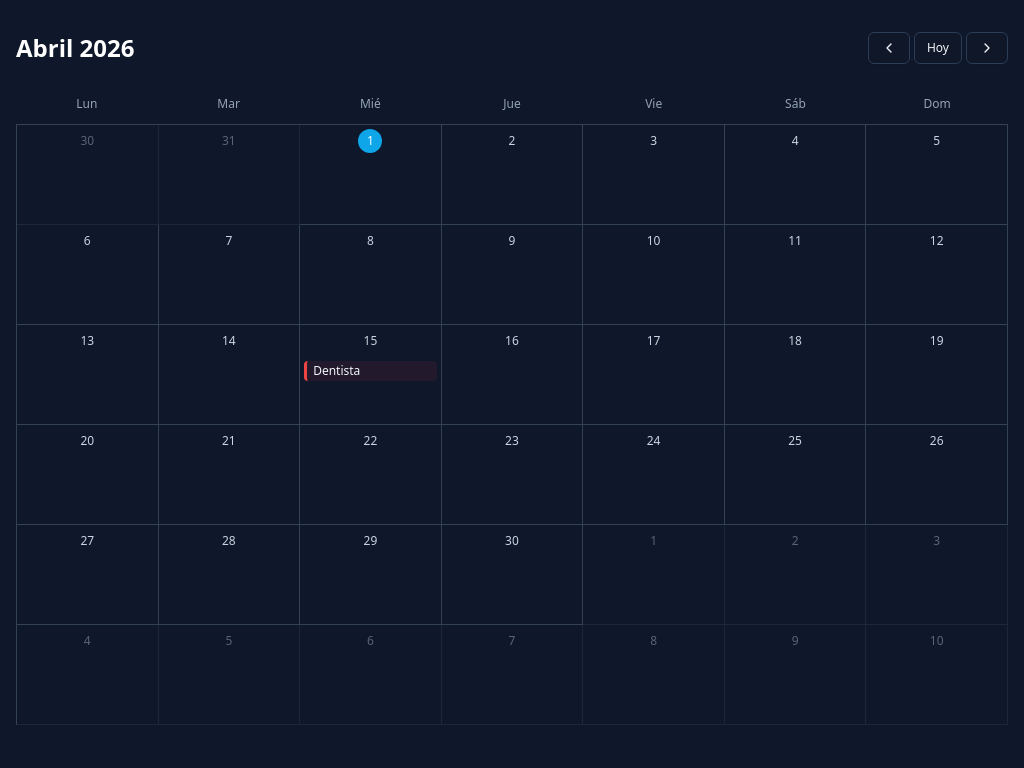
Test: CalendarPage › navigates to next month
Expected: the text "Dentista" is shown, [313,362,360,379]
Click the button named "Mes siguiente".
click(987, 48)  # box [966,32,1008,64]
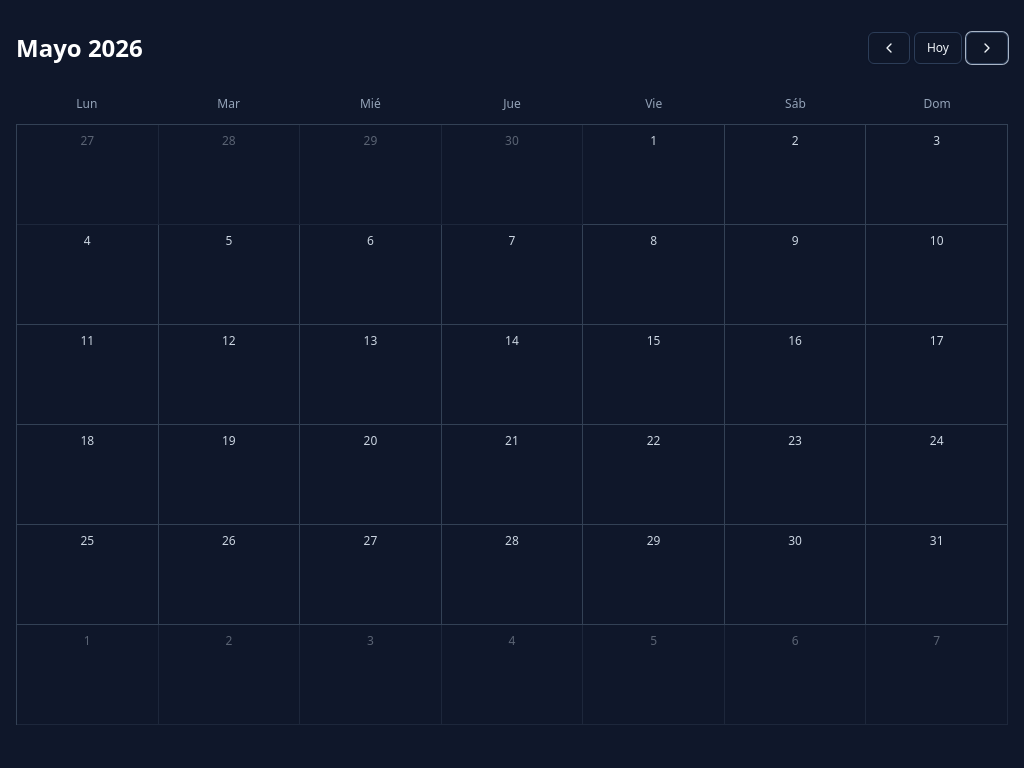
Expected: the heading "mayo 2026" is shown, [16,32,143,64]
